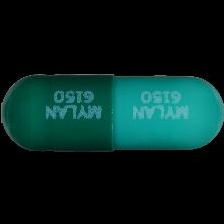60429-270: (0, 0, 224, 224)
